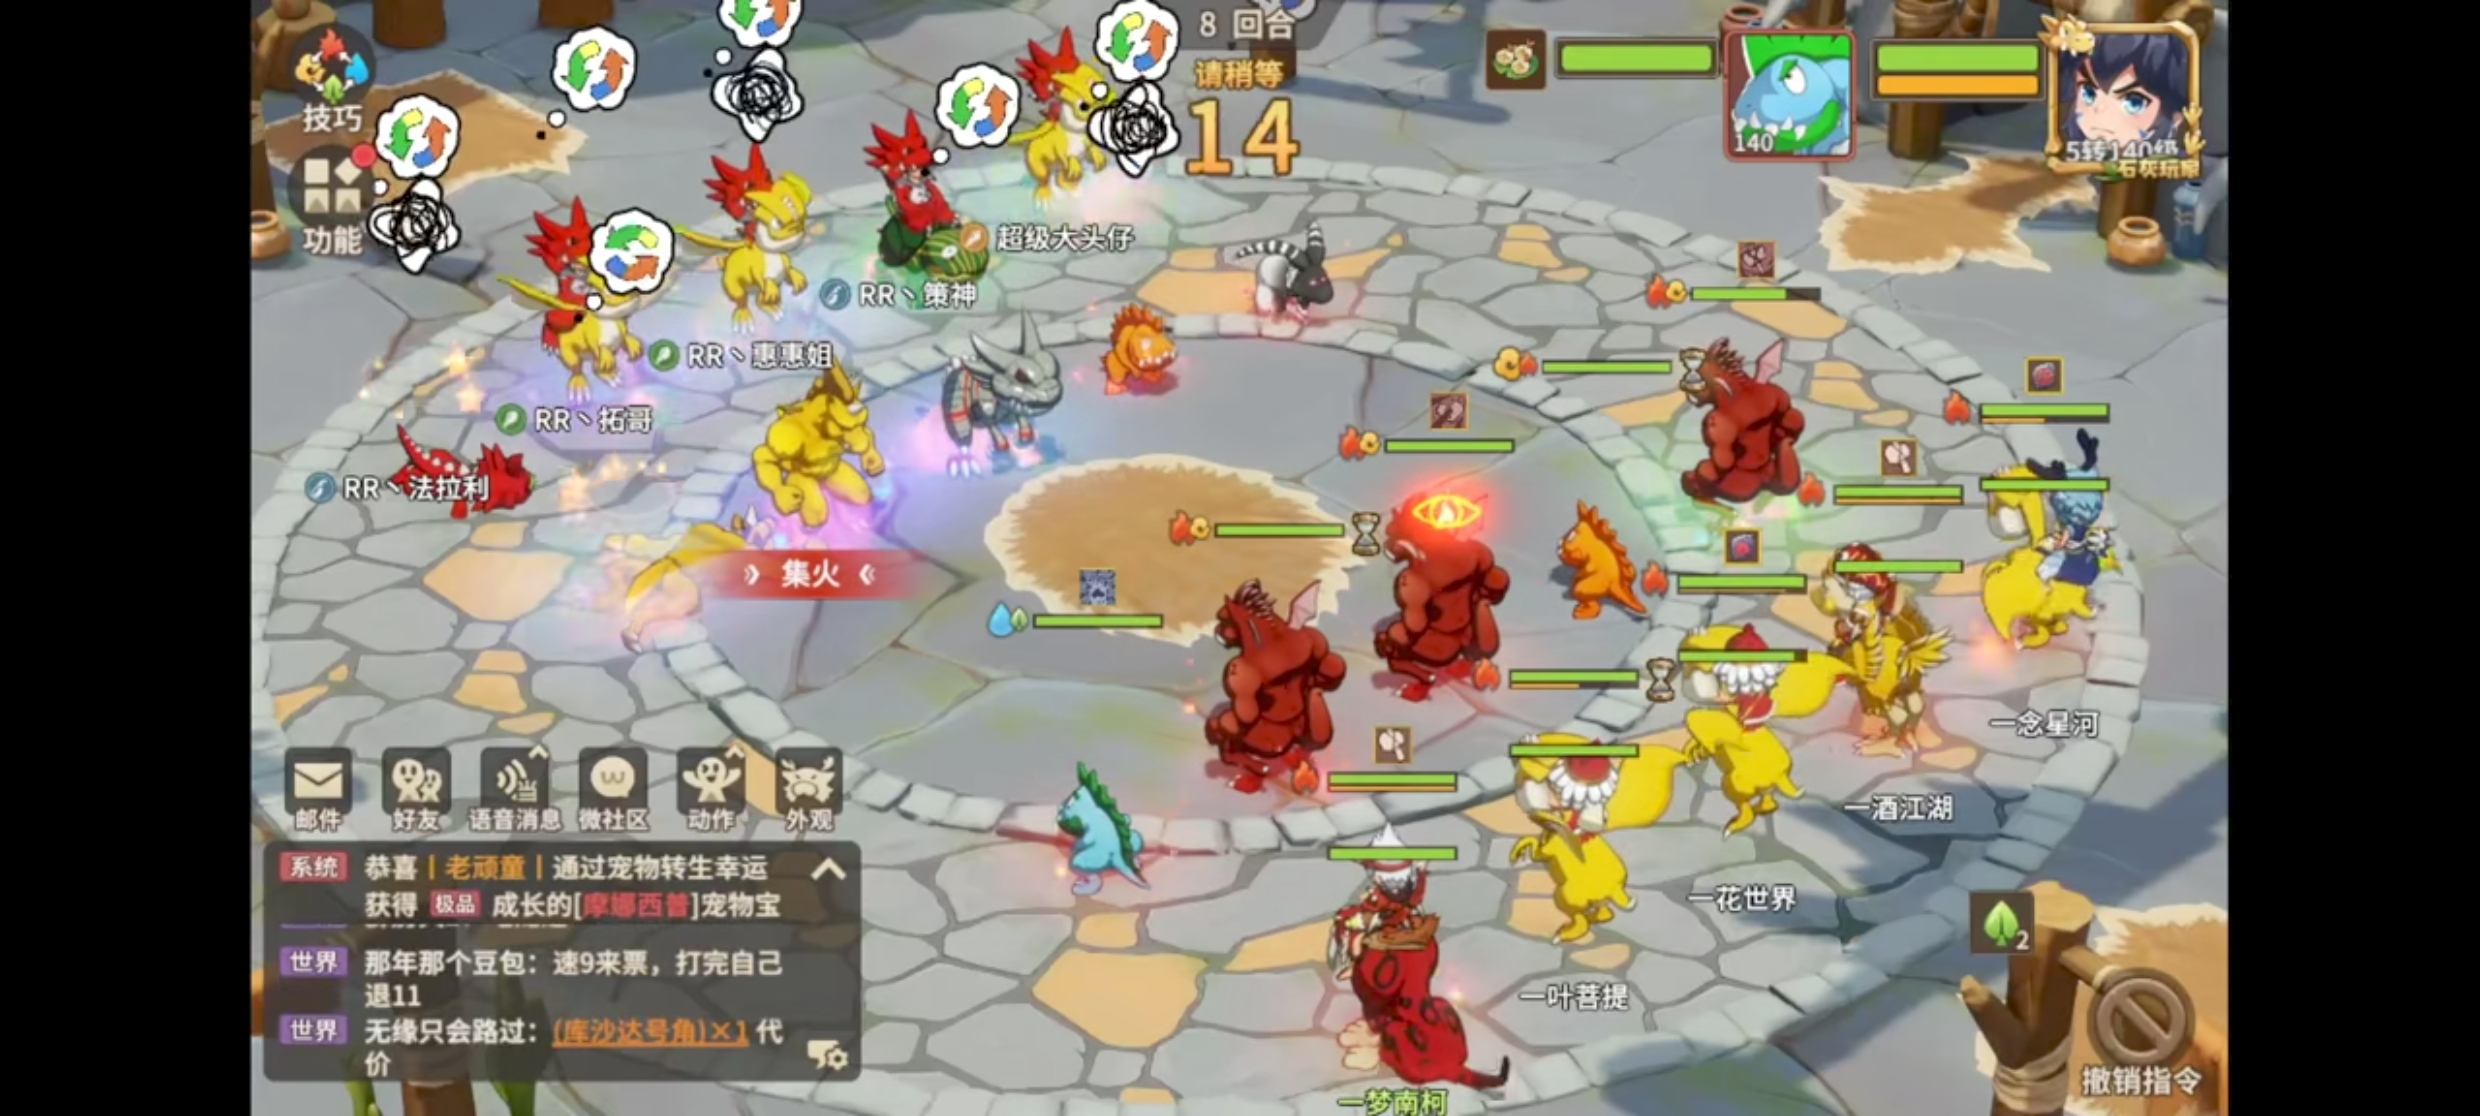葛雷吉鲁: (1202, 567, 1348, 808), (1368, 477, 1518, 708), (1673, 322, 1817, 541)
